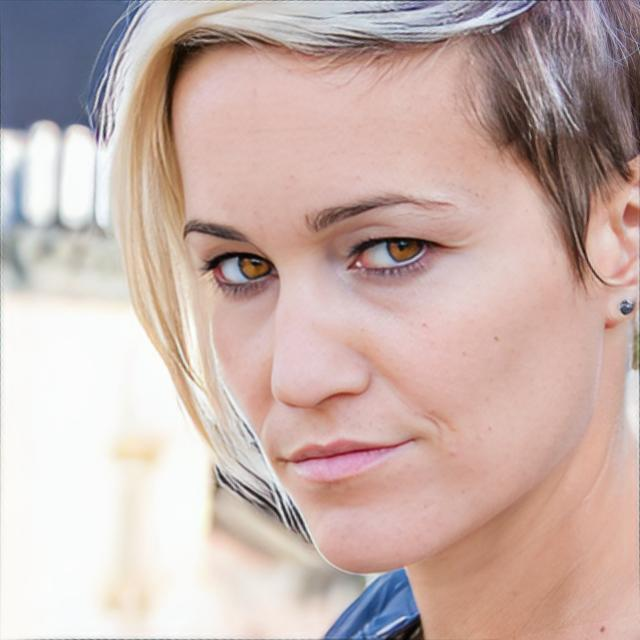neutral: (167, 25, 587, 577)
